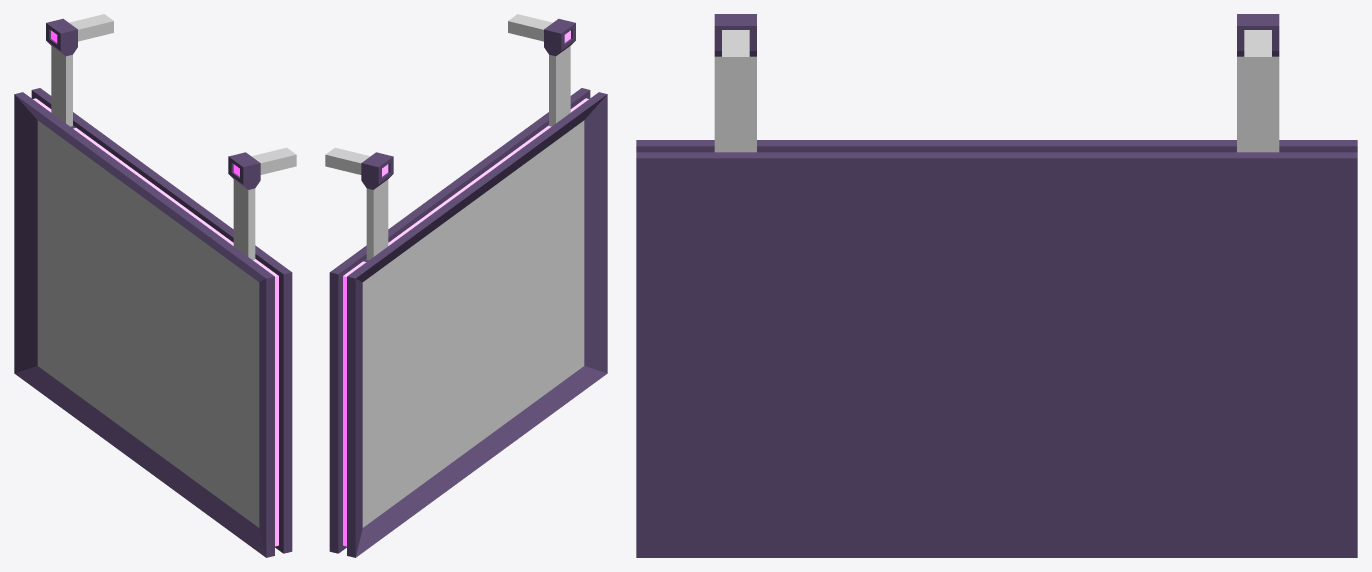
Rendered from Poster_AssestsConcert.fbx.
The picture shows the model from 3 angles, left to right: view 1: azimuth 30°, elevation 25°; view 2: azimuth 150°, elevation 25°; view 3: azimuth 270°, elevation 25°; orthographic projection. The views are drawn at different scales.
Parts seen in each view (by area): view 1: Cube, Cube.001; view 2: Cube, Cube.001; view 3: Cube, Cube.001.
Part boxes in pixels (x1,y1,x2,y2): Cube: (14, 88, 292, 557); Cube.001: (46, 14, 296, 259); Cube: (329, 88, 607, 557); Cube.001: (325, 14, 575, 259); Cube: (636, 140, 1357, 557); Cube.001: (714, 14, 1279, 152).
Size of the model in its own units: 45.07 by 265 by 327.
